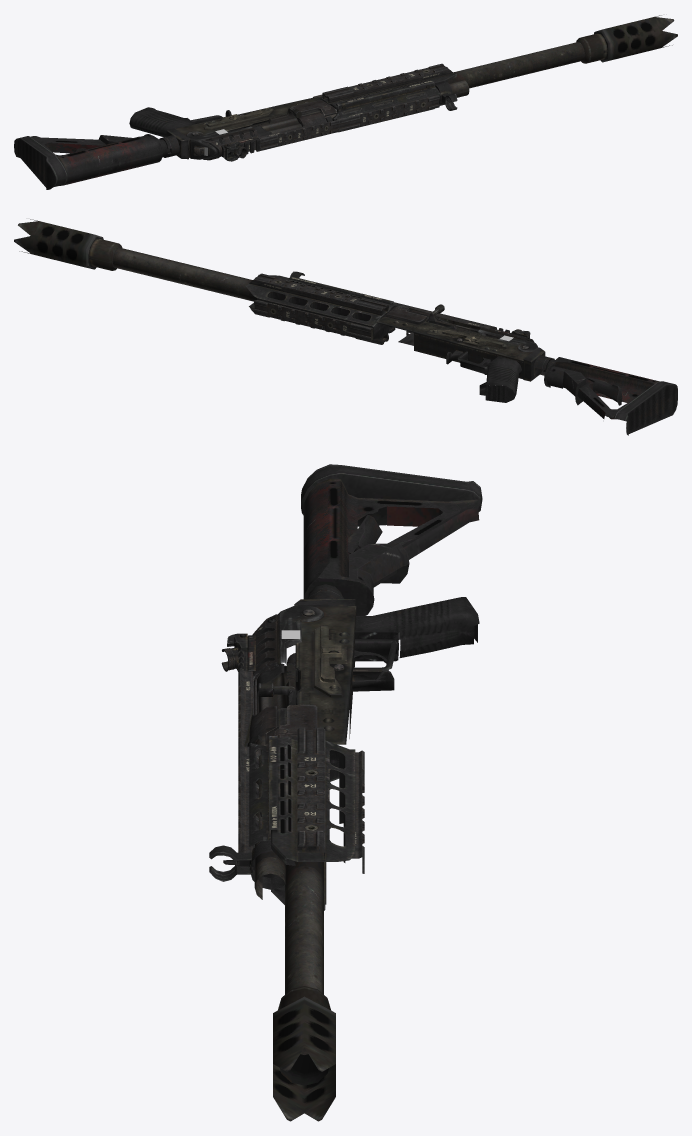
Rendered from t6_wpn_shotty_saiga_view_LOD0.obj.
3 views of the same model, one above another, from view 1: azimuth 30°, elevation 25°; view 2: azimuth 150°, elevation 25°; view 3: azimuth 270°, elevation 25° (orthographic). The views are drawn at different scales.
Parts seen in each view (by area): view 1: mtl_t6_wpn_shotty_saiga, mtl_t6_wpn_shotty_saiga_camo1, mtl_t6_wpn_shotty_saiga_camo3, mtl_t6_wpn_shotty_saiga_camo2; view 2: mtl_t6_wpn_shotty_saiga, mtl_t6_wpn_shotty_saiga_camo1, mtl_t6_wpn_shotty_saiga_camo2, mtl_t6_wpn_shotty_saiga_camo3; view 3: mtl_t6_wpn_shotty_saiga, mtl_t6_wpn_shotty_saiga_camo1, mtl_t6_wpn_shotty_saiga_camo3, mtl_t6_wpn_shotty_saiga_camo2.
Boxes of the visible parts, x1=… form: mtl_t6_wpn_shotty_saiga: x1=14, y1=29, x2=610, y2=189; mtl_t6_wpn_shotty_saiga_camo1: x1=175, y1=33, x2=607, y2=161; mtl_t6_wpn_shotty_saiga_camo3: x1=193, y1=15, x2=677, y2=161; mtl_t6_wpn_shotty_saiga_camo2: x1=17, y1=94, x2=457, y2=187; mtl_t6_wpn_shotty_saiga: x1=86, y1=234, x2=677, y2=435; mtl_t6_wpn_shotty_saiga_camo1: x1=89, y1=238, x2=534, y2=379; mtl_t6_wpn_shotty_saiga_camo2: x1=246, y1=271, x2=674, y2=421; mtl_t6_wpn_shotty_saiga_camo3: x1=14, y1=219, x2=533, y2=341; mtl_t6_wpn_shotty_saiga: x1=209, y1=474, x2=482, y2=910; mtl_t6_wpn_shotty_saiga_camo1: x1=221, y1=606, x2=356, y2=1085; mtl_t6_wpn_shotty_saiga_camo3: x1=224, y1=614, x2=335, y2=1121; mtl_t6_wpn_shotty_saiga_camo2: x1=209, y1=464, x2=480, y2=881.
Size of the model in its own units: 118 by 6.61 by 22.62.
